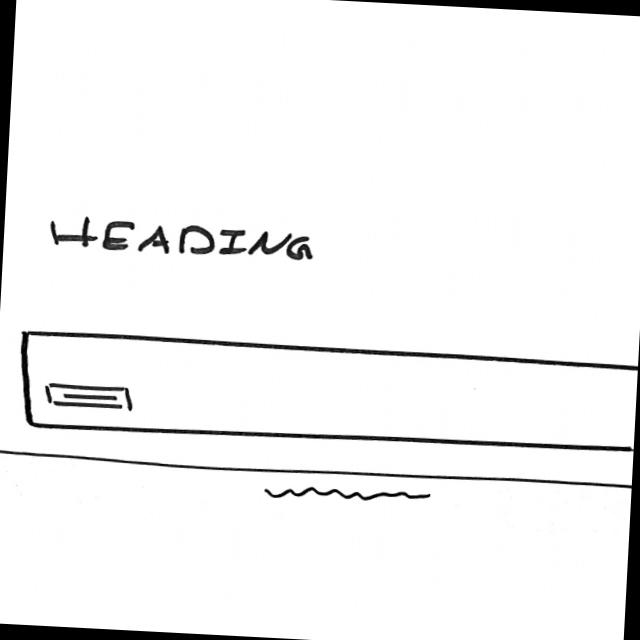container: (14, 328, 638, 458)
icon-button: (37, 378, 140, 414)
label: (46, 212, 319, 264)
text: (261, 482, 434, 506)
